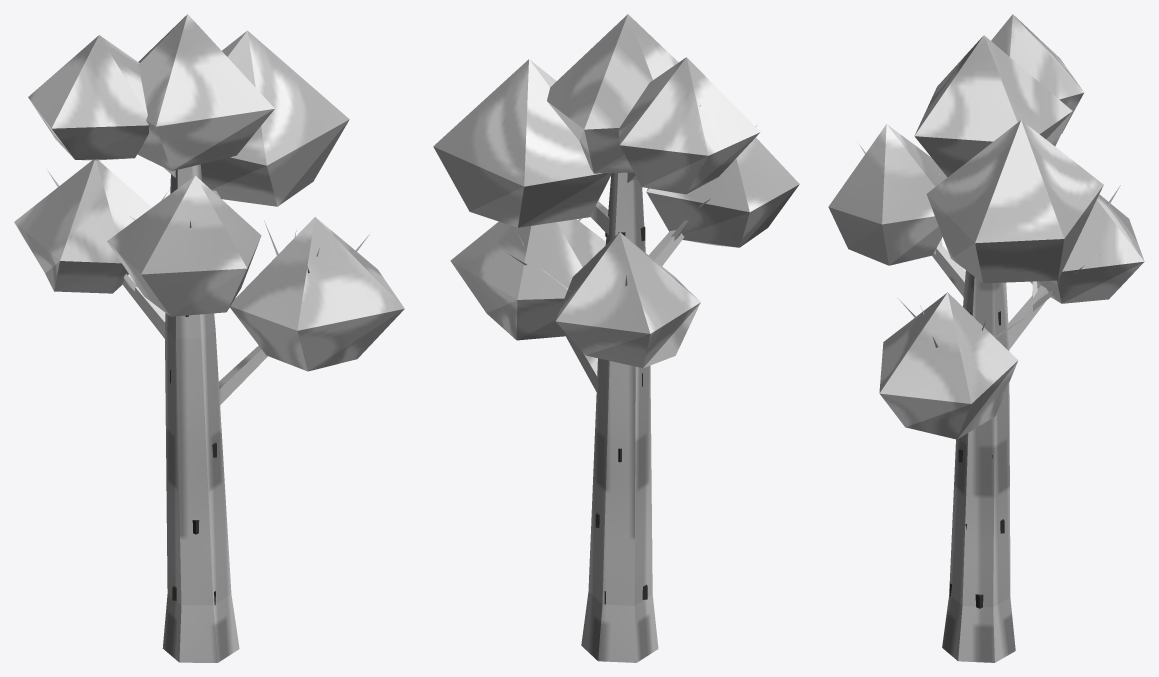
The model's file is tree_birch_1.obj.
3 renders of one model, left to right at view 1: azimuth 30°, elevation 25°; view 2: azimuth 150°, elevation 25°; view 3: azimuth 270°, elevation 25°, orthographic. The views are drawn at different scales.
Visible parts, largest first — view 1: tree_birch_1; view 2: tree_birch_1; view 3: tree_birch_1.
Boxes of the visible parts, box(x1,y1,x2,y2) form: tree_birch_1: box(14, 14, 404, 662); tree_birch_1: box(433, 14, 799, 662); tree_birch_1: box(828, 14, 1144, 662).
Bounding box in the file's own units: 0.5567 × 1.07 × 0.5006.
